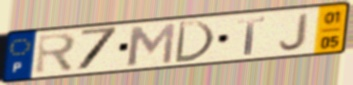7: (78, 25, 120, 73)
D: (172, 19, 218, 64)
J: (277, 11, 312, 53)
M: (126, 21, 178, 68)
R: (33, 31, 79, 77)
T: (236, 15, 267, 56)
